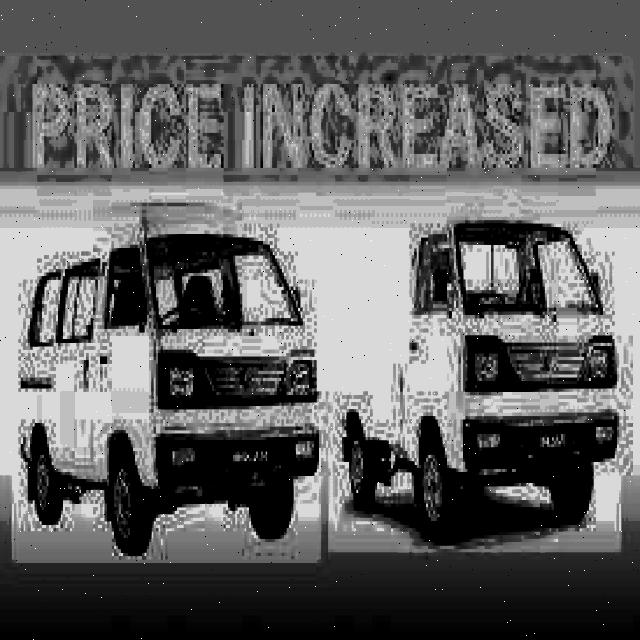LCV: (12, 206, 324, 566), (328, 203, 624, 556)
